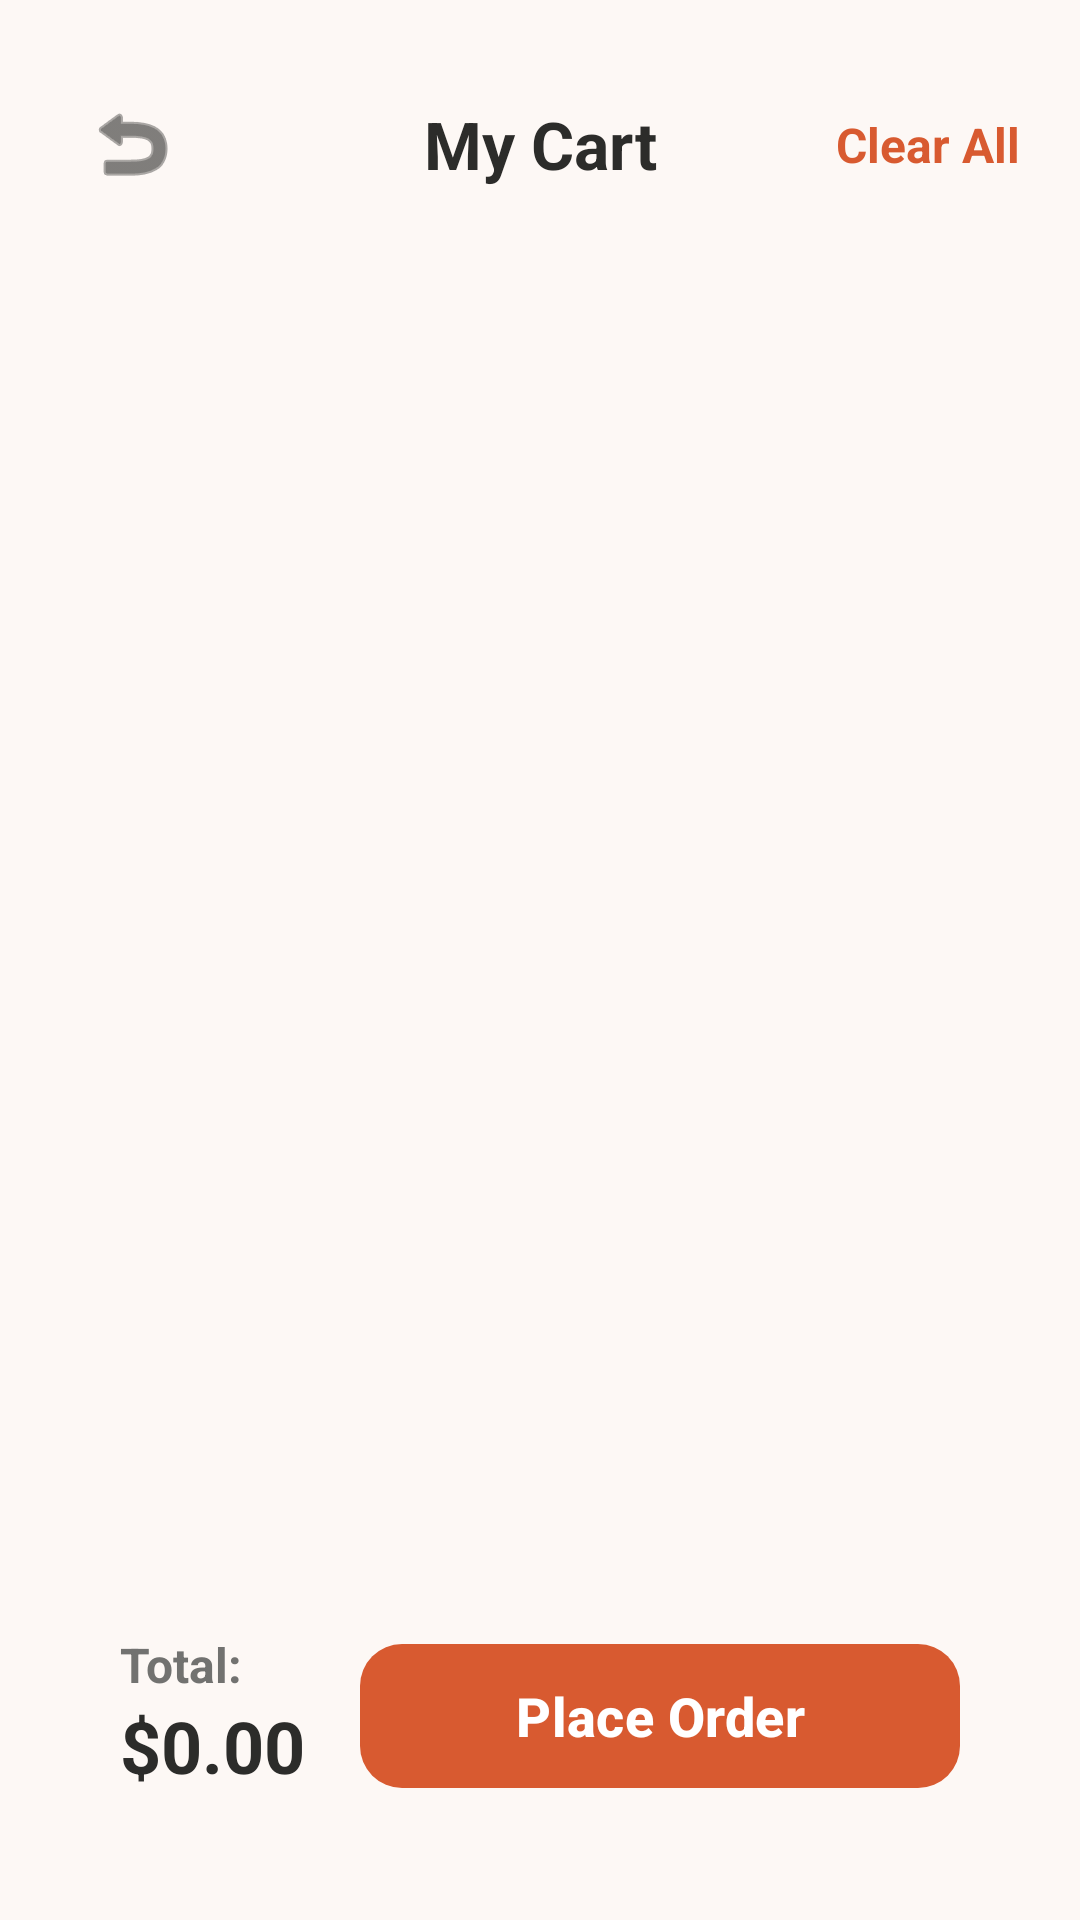

Named icons in this screenshot (1080px x 1920px) and their bounding boxes, [left=x1, top=y1, right=x2, bottom=y2]:
revert: [left=99, top=113, right=168, bottom=176]
